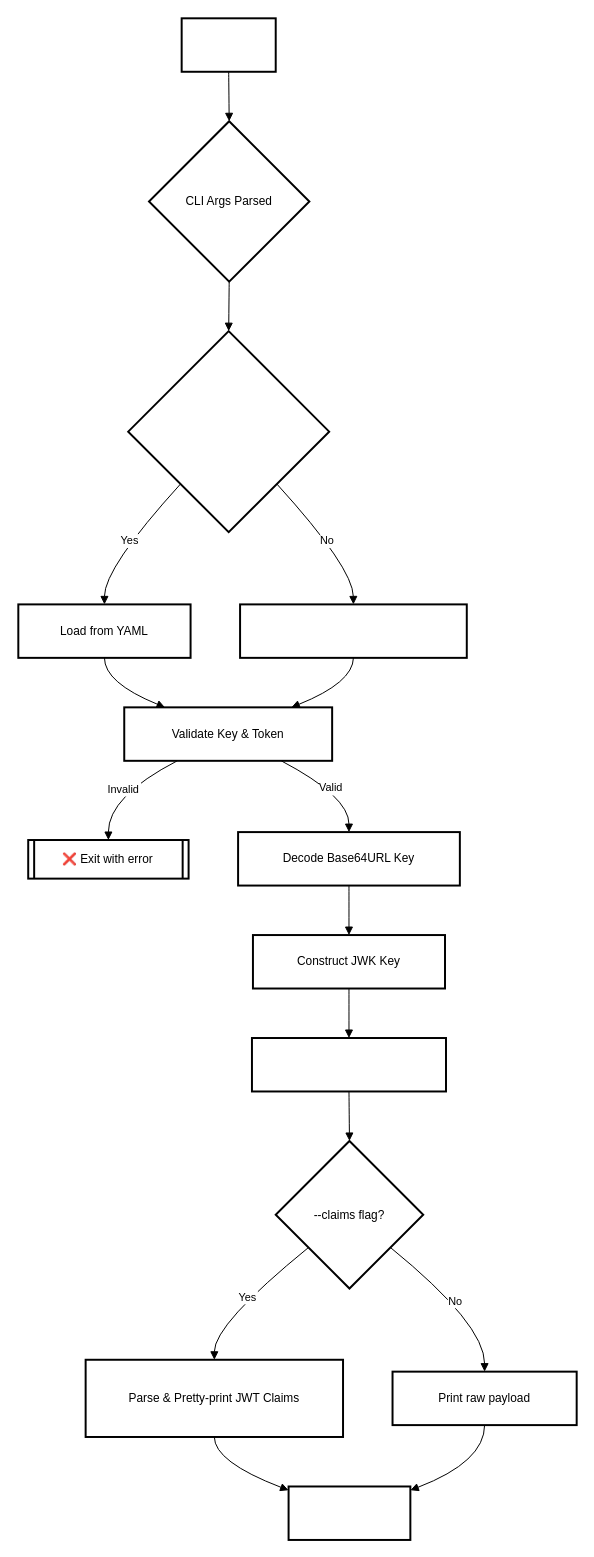
This 594x1557 diagram has some shape labels left out. Here are the shapes that lost their labels. From the top down, the centre of each, then its label:
the point at 228,44: Start
the point at 228,431: Config File Provided?
the point at 353,630: Prompt for Key & Token
the point at 348,1064: Decrypt JWE Token
the point at 349,1512: ✅ Done
